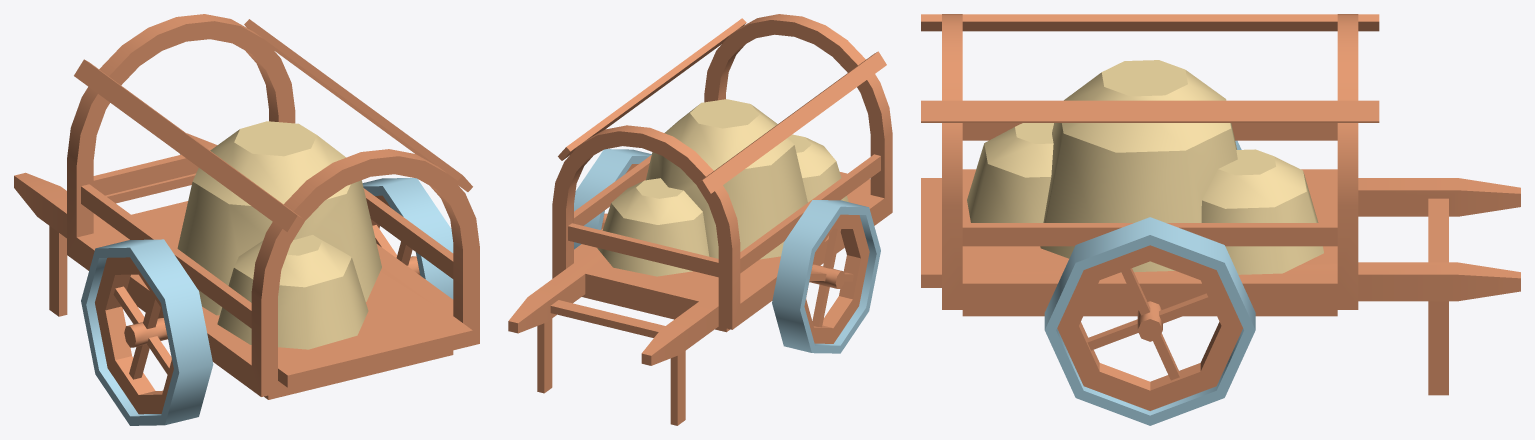
The model's file is cartHigh.fbx.
3 views of the same model, side by side, from view 1: azimuth 30°, elevation 25°; view 2: azimuth 150°, elevation 25°; view 3: azimuth 270°, elevation 25° (orthographic). The views are drawn at different scales.
Visible parts, largest first — view 1: cartHigh, hay, wheel (×2); view 2: cartHigh, hay, wheel (×2); view 3: cartHigh, hay, wheel.
Part boxes in pixels (x1,y1,x2,y2): cartHigh: [14, 14, 479, 399]; hay: [177, 121, 381, 349]; wheel (×2): [81, 178, 453, 425]; cartHigh: [508, 14, 892, 425]; hay: [597, 99, 848, 276]; wheel (×2): [574, 149, 880, 353]; cartHigh: [921, 14, 1520, 395]; hay: [967, 60, 1323, 274]; wheel: [1044, 217, 1255, 425].
Size of the model in its own units: 8.53 by 8.61 by 14.4.
